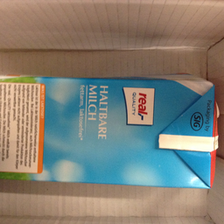milk: (1, 74, 224, 192)
